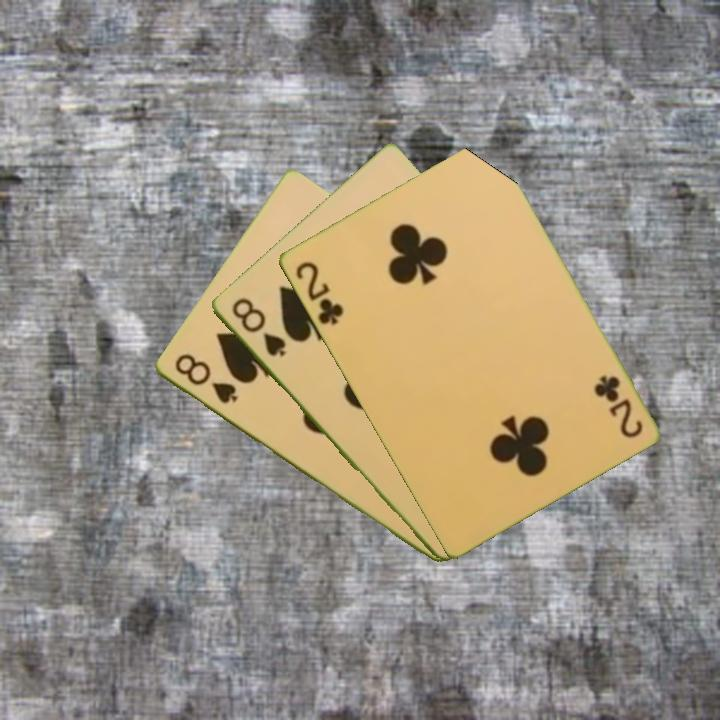2c: (291, 257, 346, 328), (591, 371, 645, 441)
8s: (227, 294, 288, 360), (170, 350, 240, 407)
